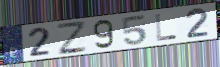2: (184, 7, 212, 40), (28, 26, 55, 59)
5: (121, 13, 149, 47)
9: (92, 19, 115, 50)
L: (154, 13, 179, 43)
Z: (55, 21, 89, 57)
